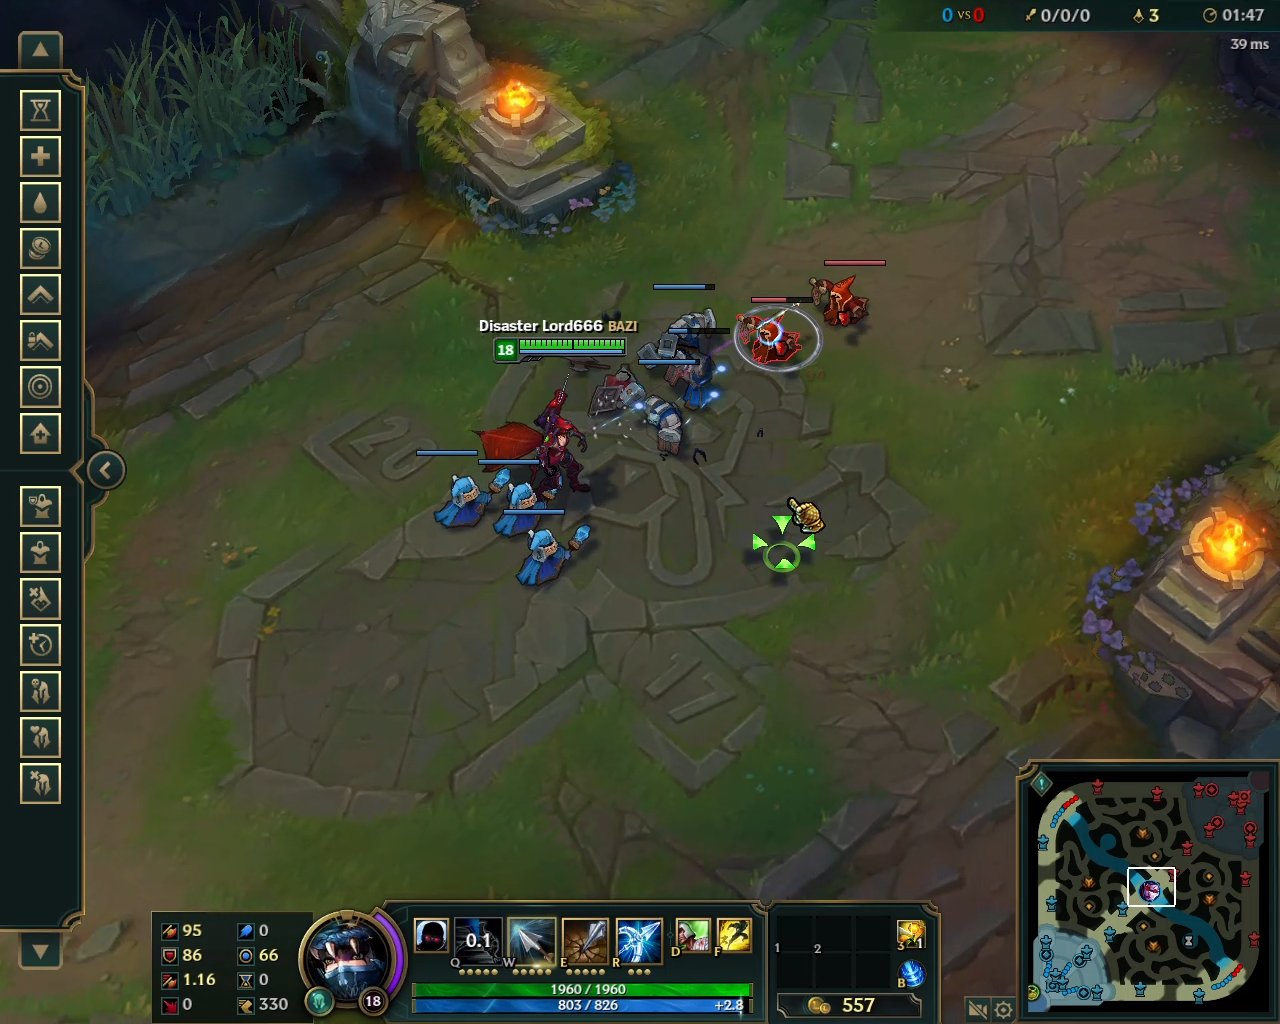EnemyMinion: (735, 297, 818, 365), (807, 261, 886, 332)
Vayne: (471, 373, 595, 494)
